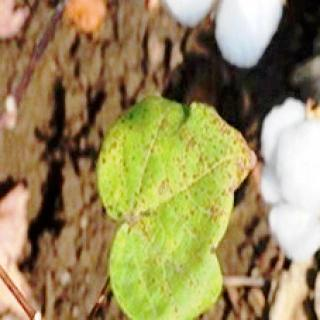leaf spot: (105, 91, 258, 320)
